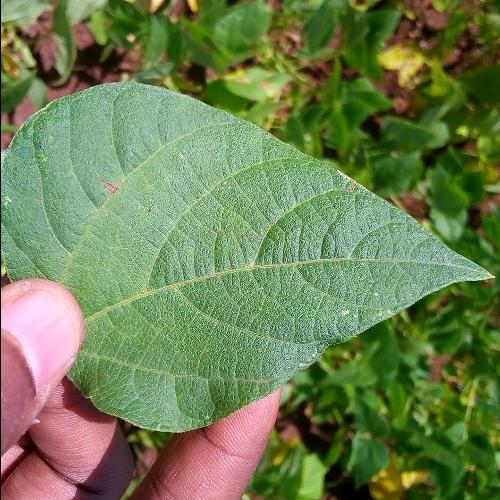embun tepung: (158, 148, 242, 196), (333, 275, 390, 324)
hawar: (96, 176, 122, 198), (340, 174, 357, 199)
mozaik: (88, 223, 185, 364)
